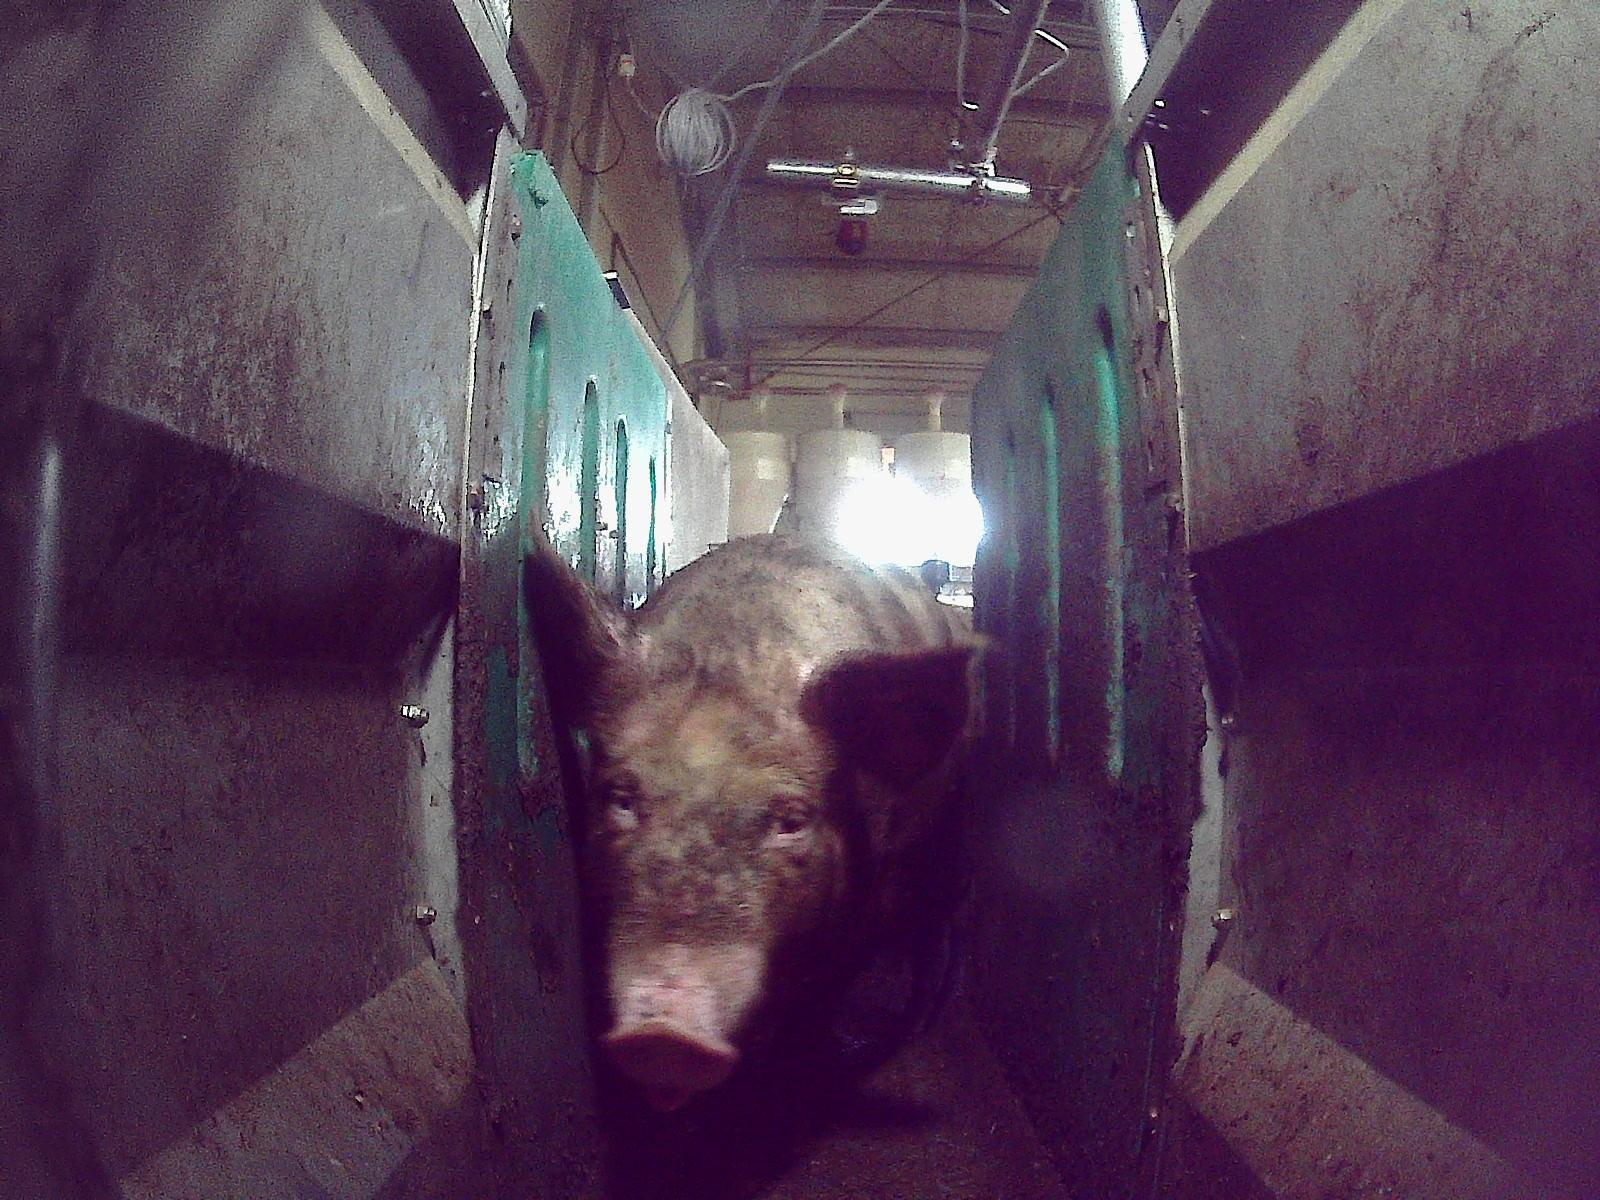Face: (586, 677, 843, 1101)
